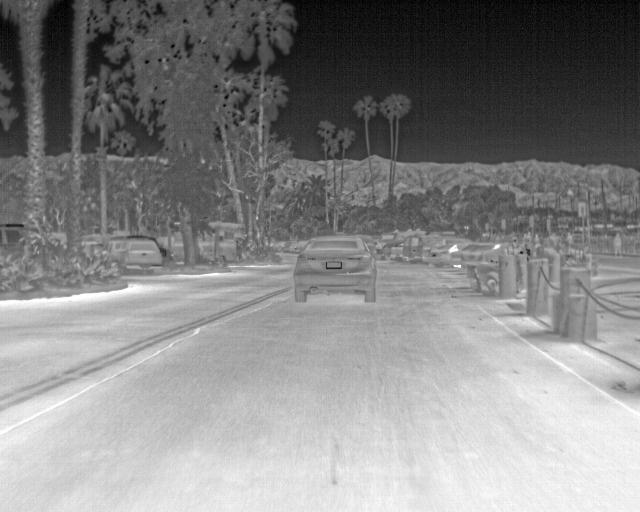bicycle: (292, 235, 372, 302), (105, 237, 166, 276), (459, 240, 512, 269), (430, 239, 467, 268), (401, 233, 433, 263)
